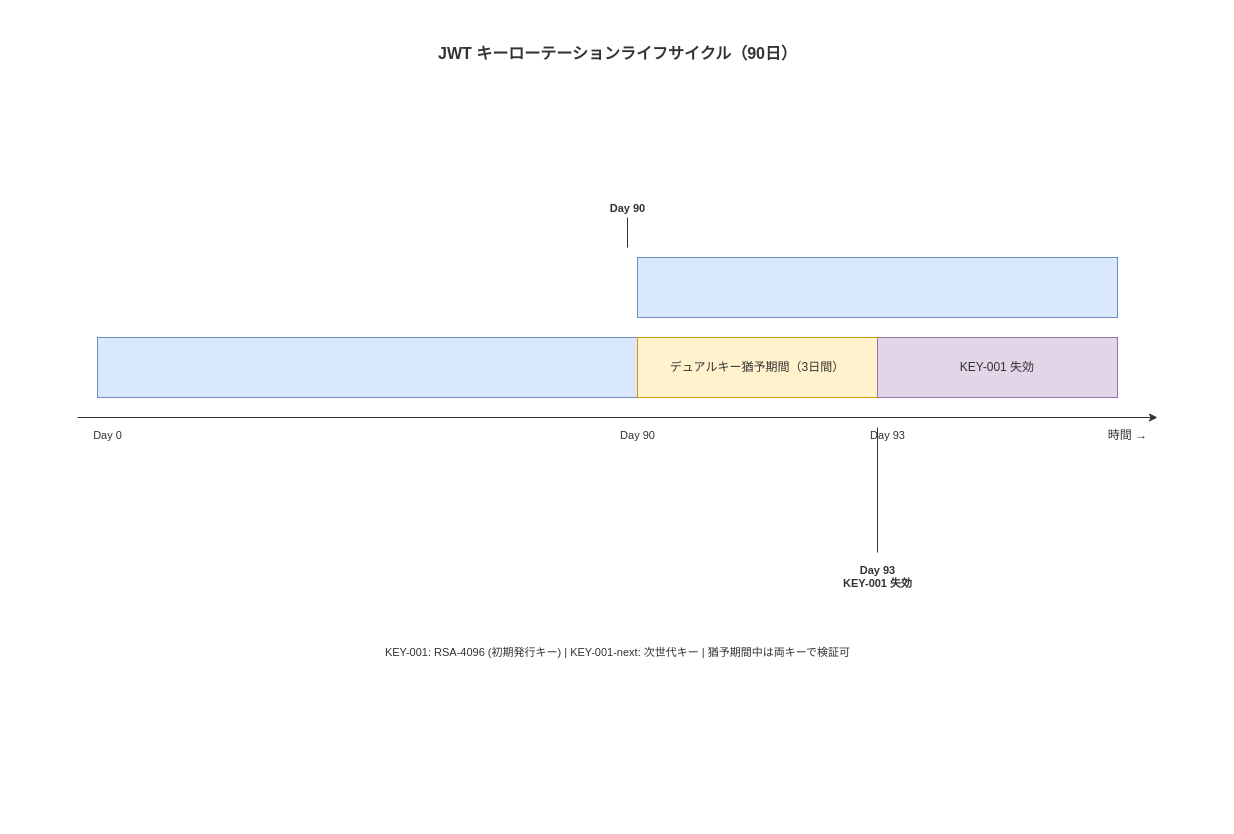
The diagram is 1234 pixels wide and 834 high, and some of its shapes have lost their labels. The centre of each missing label's shape, as x and y in pixels:
KEY-001 (RSA-4096) アクティブ: the point at 367,367
KEY-001-next アクティブ: the point at 877,287
